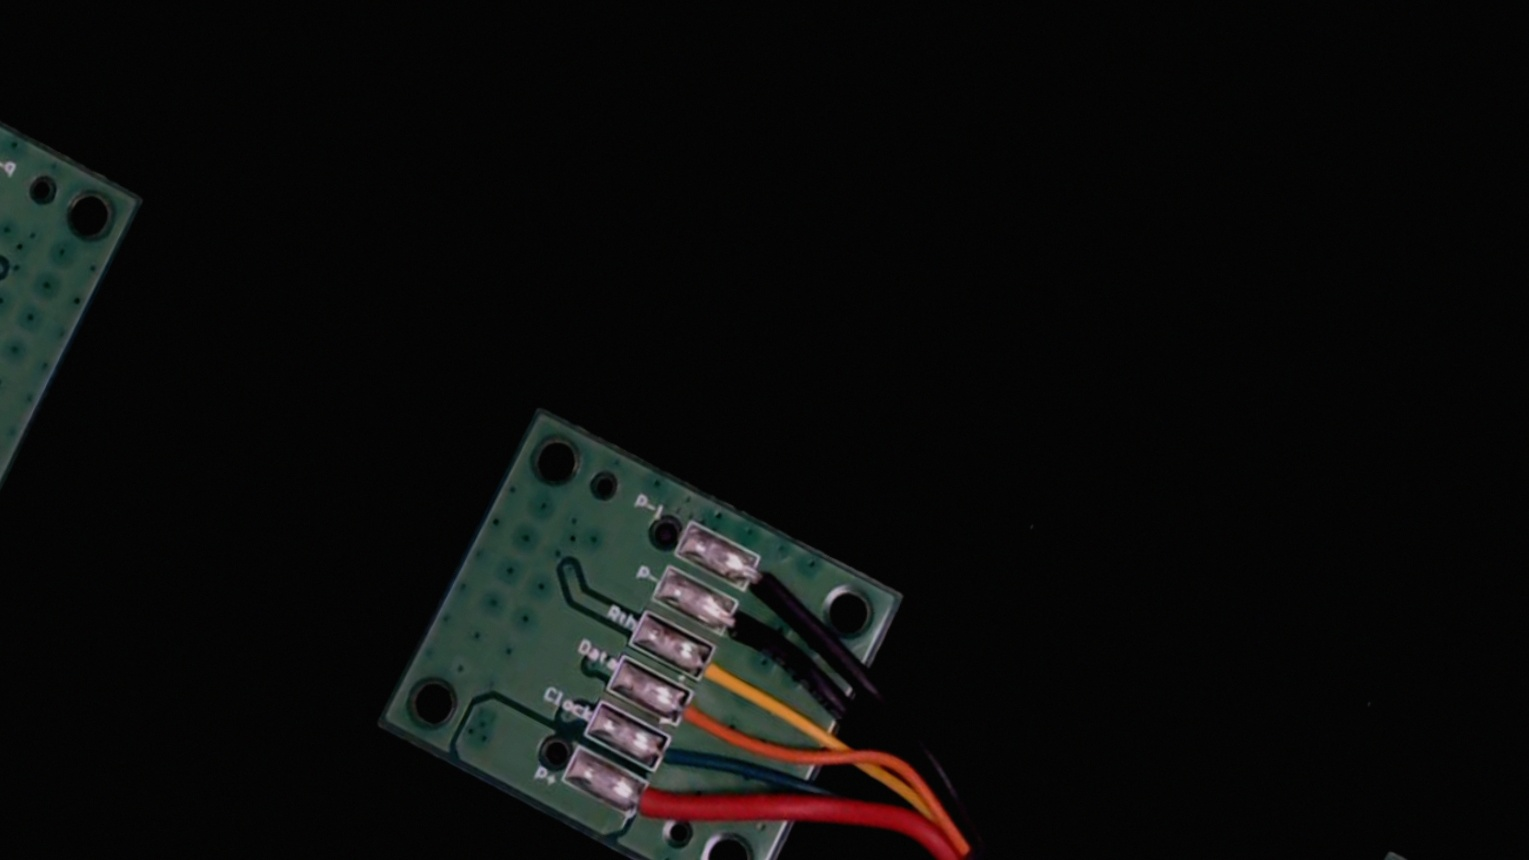Black: (699, 591, 796, 671)
Black1: (726, 545, 813, 616)
Green: (629, 725, 729, 805)
Orange: (654, 679, 755, 760)
Red: (610, 770, 710, 851)
Yellow: (676, 635, 766, 710)
